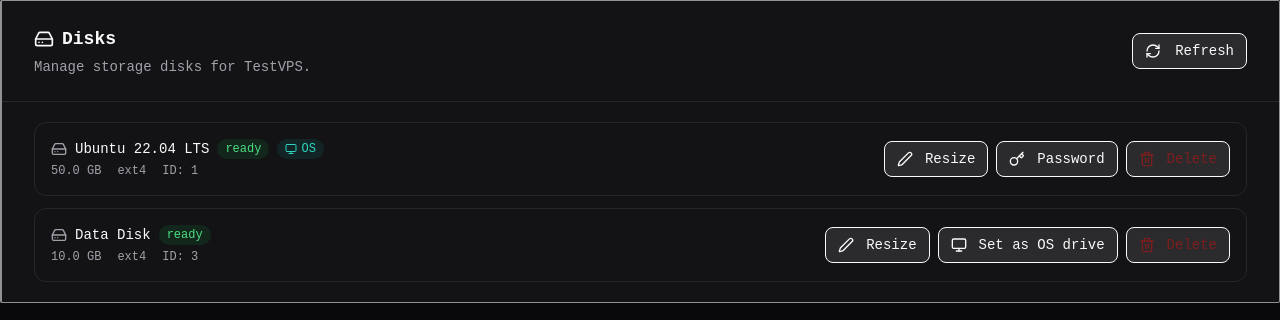
Test case: VPSDisksTab › Set OS drive action › shows inline confirmation when clicking 'Set as OS drive'
Expected: the text "Data Disk" is shown, x1=75 y1=225 x2=151 y2=245
What coordinates should you click on to do the following:
click the button "Set as OS drive"
I would click on:
 (1028, 245)
Its box is x1=938 y1=227 x2=1118 y2=263.
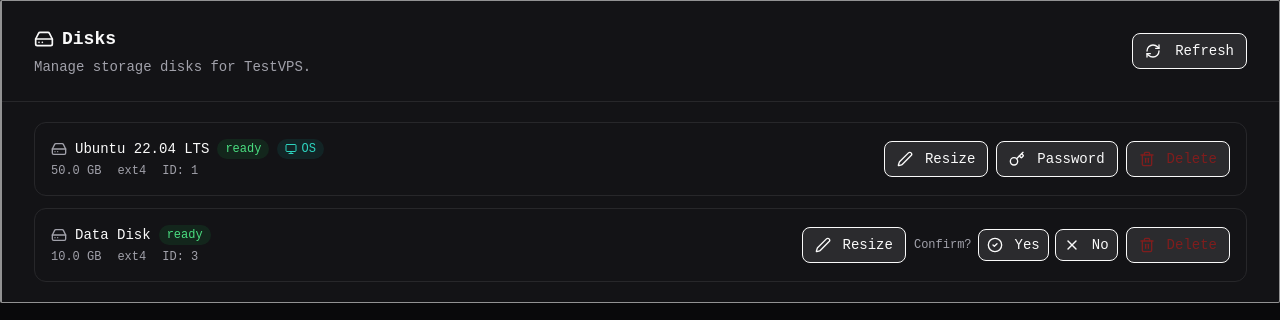
Now the text "Confirm?" is shown, box x1=914 y1=237 x2=972 y2=253
